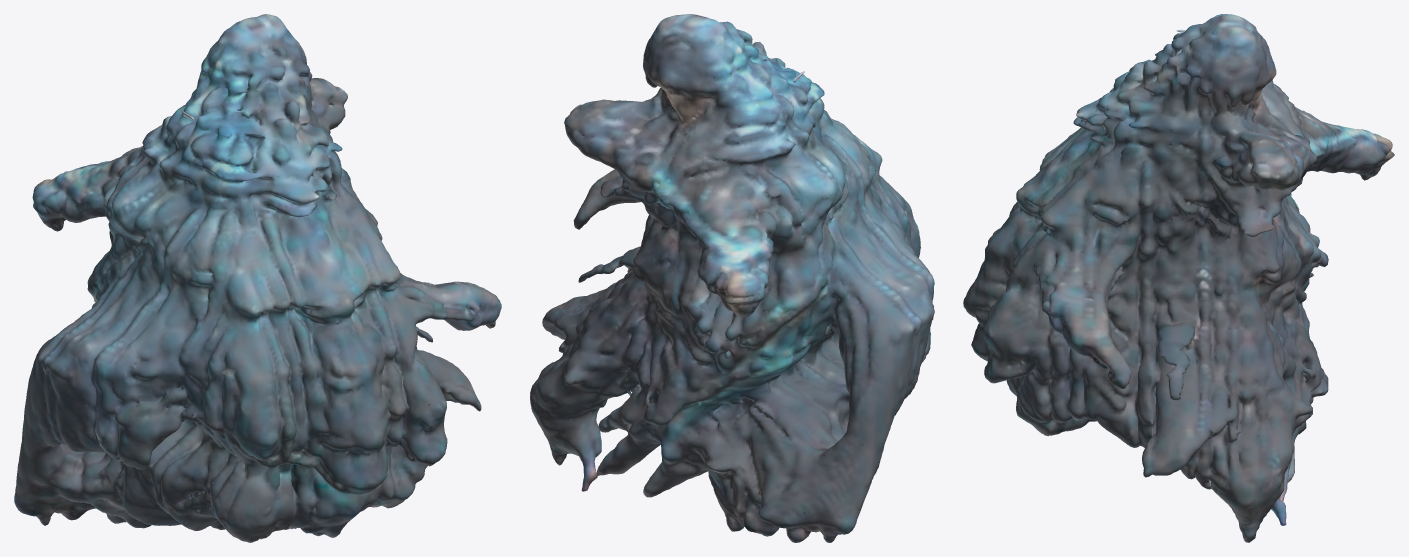
Rendered from xianming-p1.glb.
3 views of the same model, side by side, from view 1: azimuth 30°, elevation 25°; view 2: azimuth 150°, elevation 25°; view 3: azimuth 270°, elevation 25° (orthographic). The views are drawn at different scales.
Visible parts, largest first — view 1: xianming-p1; view 2: xianming-p1; view 3: xianming-p1.
Boxes of the visible parts, x1=… form: xianming-p1: x1=14, y1=14, x2=501, y2=542; xianming-p1: x1=530, y1=14, x2=934, y2=542; xianming-p1: x1=963, y1=14, x2=1394, y2=542.
Size of the model in its own units: 1.42 by 1.66 by 1.39.
